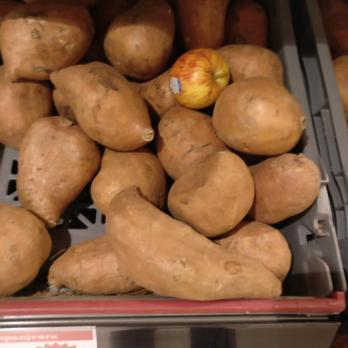Sweet potato: (0, 4, 158, 302), (163, 150, 321, 299), (214, 78, 306, 156), (167, 2, 275, 47)
